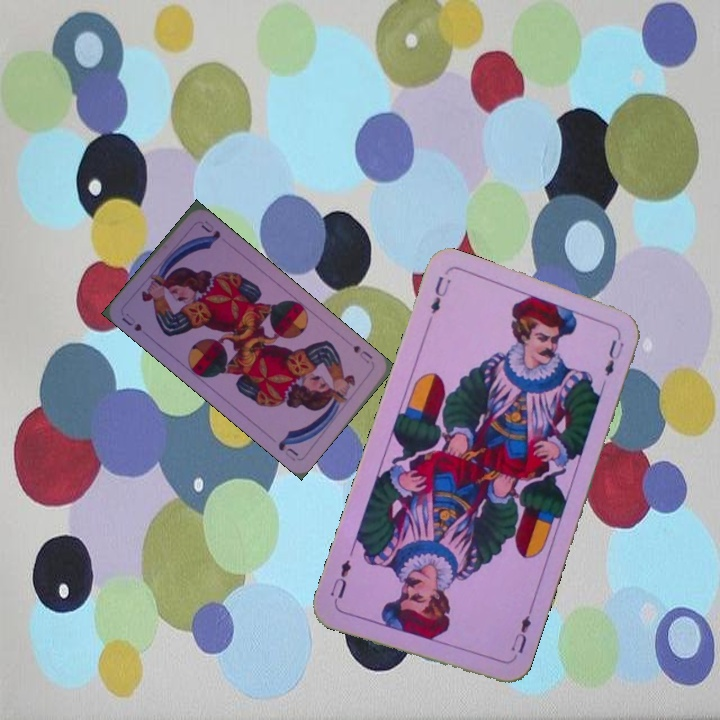EU: (507, 606, 534, 664), (426, 272, 453, 316)
SU: (118, 309, 144, 334), (349, 341, 375, 366)
